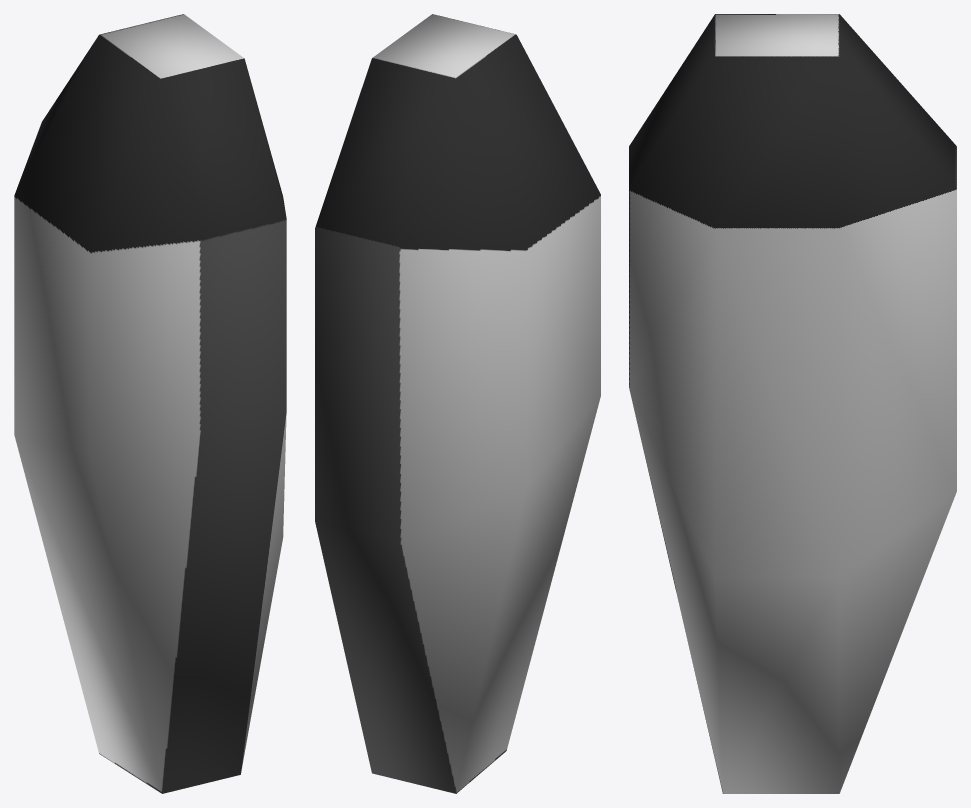
Rendered from LLeagAbove.fbx.
3 renders of one model, left to right at view 1: azimuth 30°, elevation 25°; view 2: azimuth 150°, elevation 25°; view 3: azimuth 270°, elevation 25°, orthographic. The views are drawn at different scales.
Parts seen in each view (by area): view 1: Shape_IndexedFaceSet.008; view 2: Shape_IndexedFaceSet.008; view 3: Shape_IndexedFaceSet.008.
Part boxes in pixels (x1=…): Shape_IndexedFaceSet.008: x1=14, y1=14, x2=286, y2=793; Shape_IndexedFaceSet.008: x1=315, y1=14, x2=600, y2=793; Shape_IndexedFaceSet.008: x1=629, y1=14, x2=956, y2=793.
Size of the model in its own units: 0.1272 by 0.4361 by 0.1757.
1 material, 1 textured.
